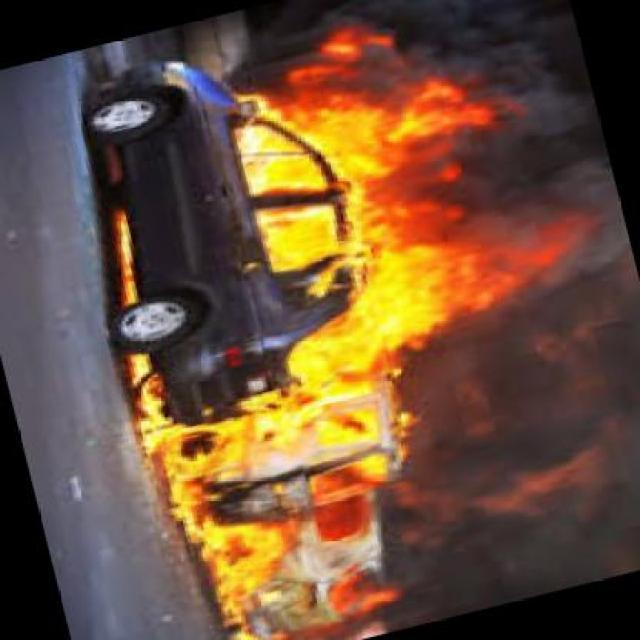Fire: (73, 34, 499, 418), (112, 401, 410, 640)
Smoke: (397, 357, 640, 601), (469, 8, 631, 346)
